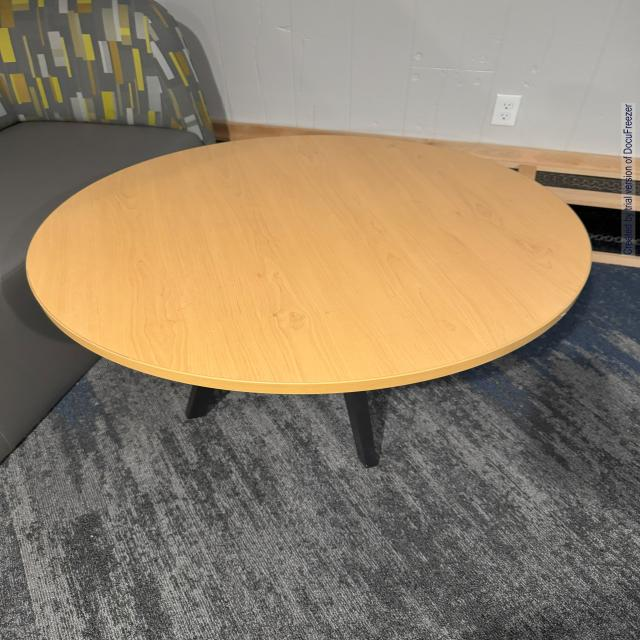Table: (12, 128, 617, 501)
